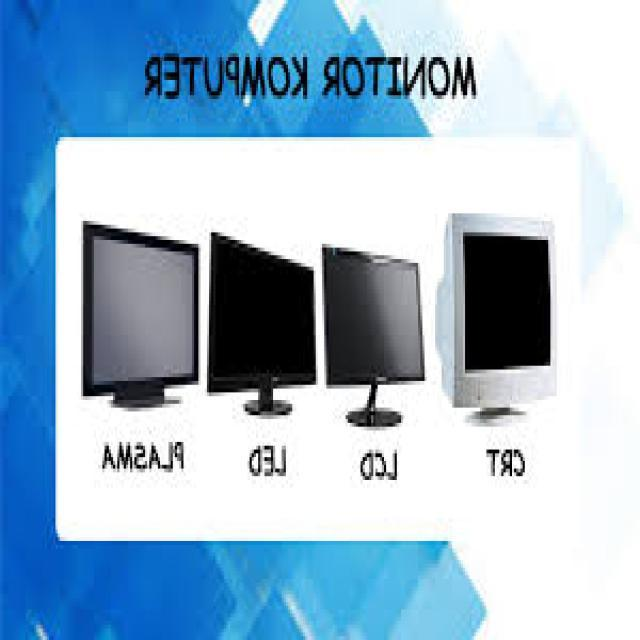monitor: (77, 219, 193, 423), (454, 223, 566, 431), (205, 238, 313, 444), (332, 238, 429, 444)
